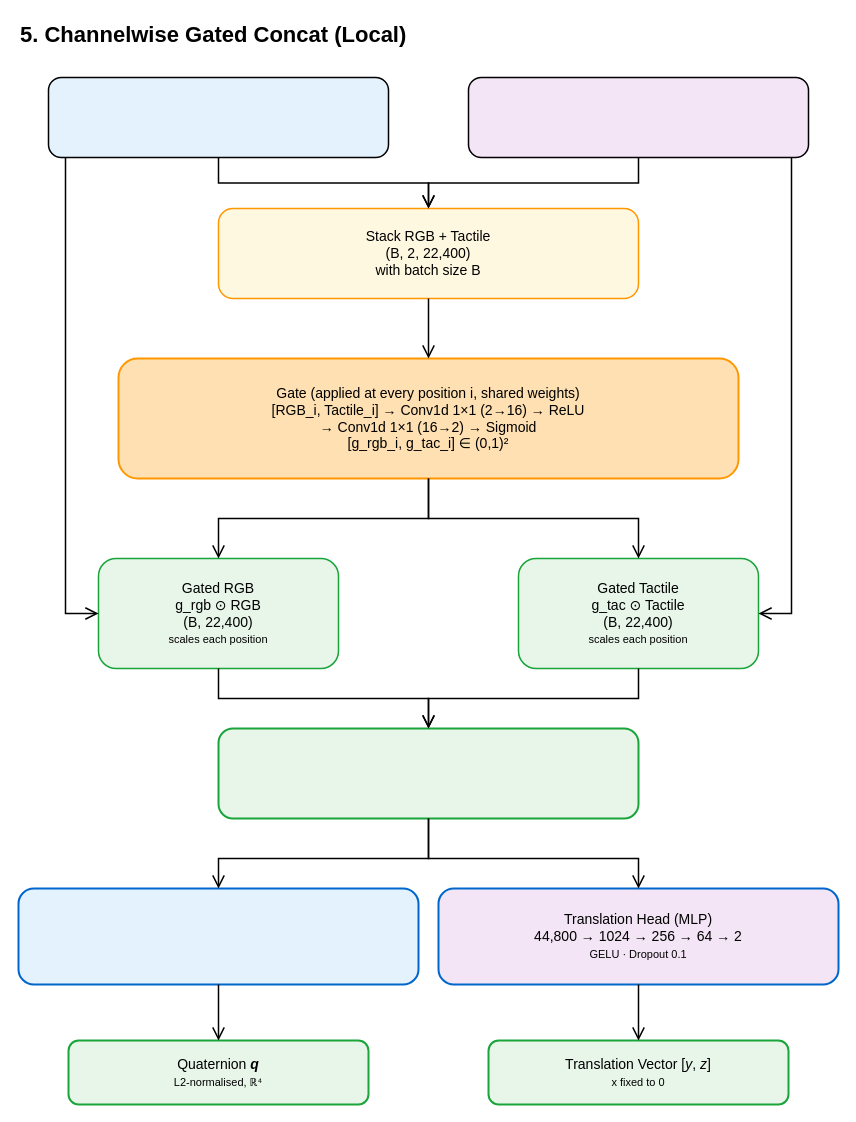
Image size: 856x1122. Some labels were removed from this diagram. The centre of each missing label's shape, as x and y in pixels:
Concatenate Streams [g_rgb⊙RGB | g_tac⊙Tactile] (B, 44,800-dim): point (428, 773)
RGB Features 22,400-dim: point (218, 117)
Rotation Head (MLP) 44,800 → 2048 → 1024 → 512 → 4 GELU · Dropout 0.1: point (218, 936)
Tactile Features 22,400-dim: point (638, 117)
